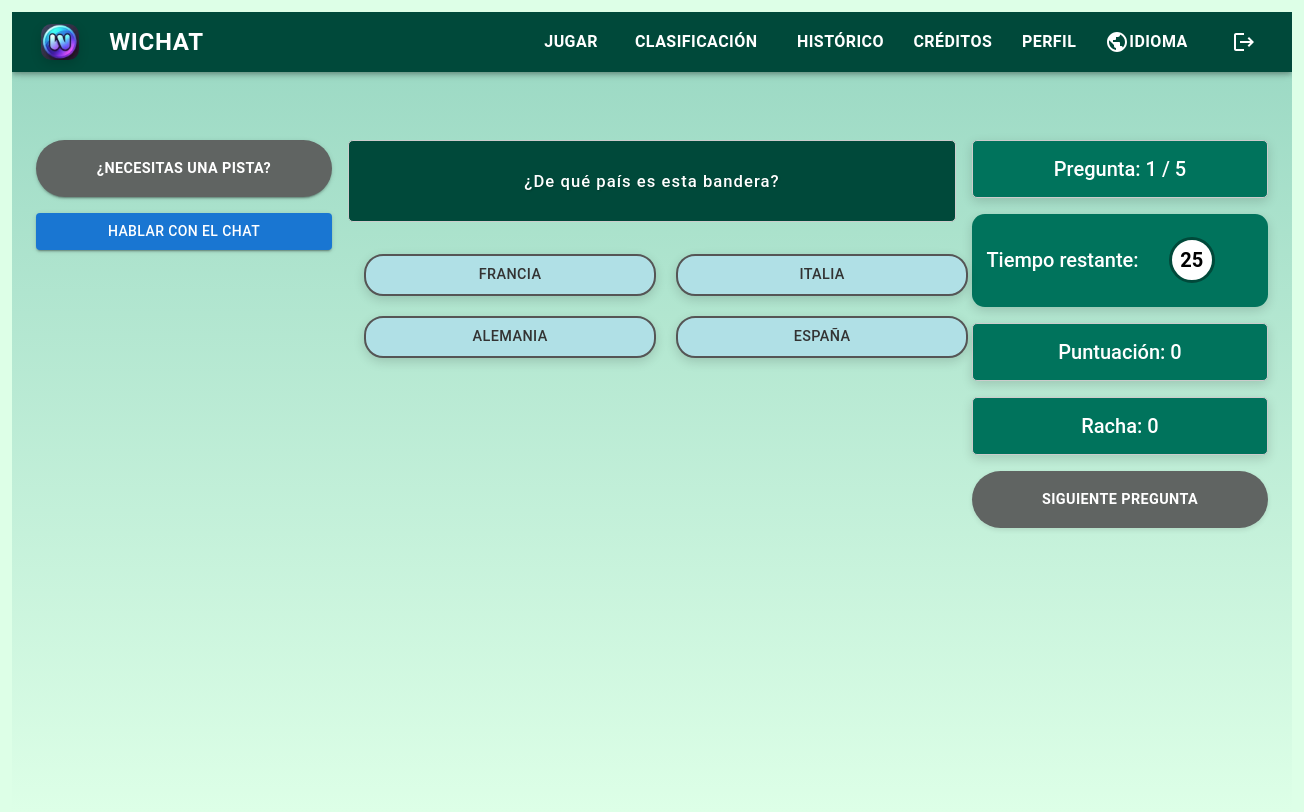
Test: Juego component › desactiva los botones después de seleccionar una respuesta
Simula el clic en una respuesta
Click the button "España".
click(822, 337)  # box [676,316,968,358]
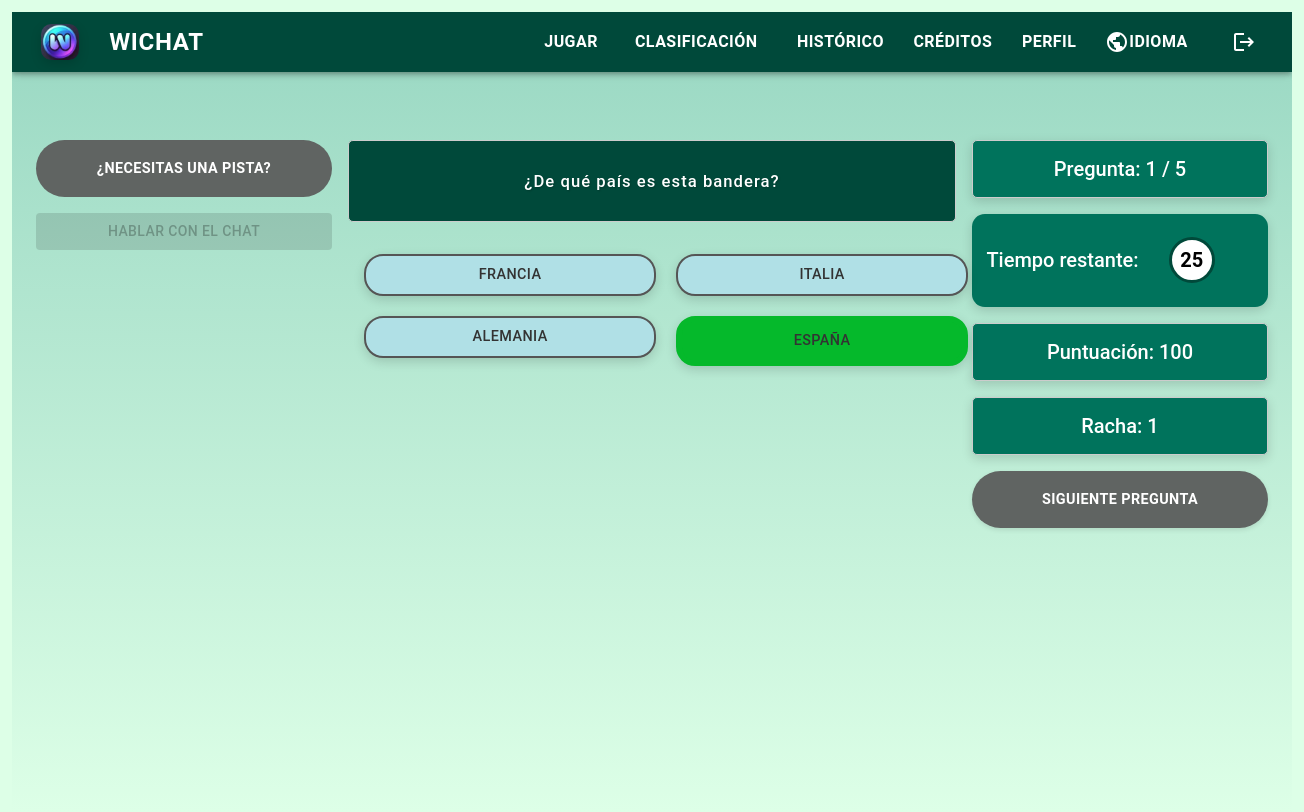
Expected: the button "Francia" is disabled, [364,254,656,296]
Expected: the button "España" is disabled, [676,316,968,366]
